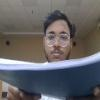notebook: (0, 48, 99, 99)
